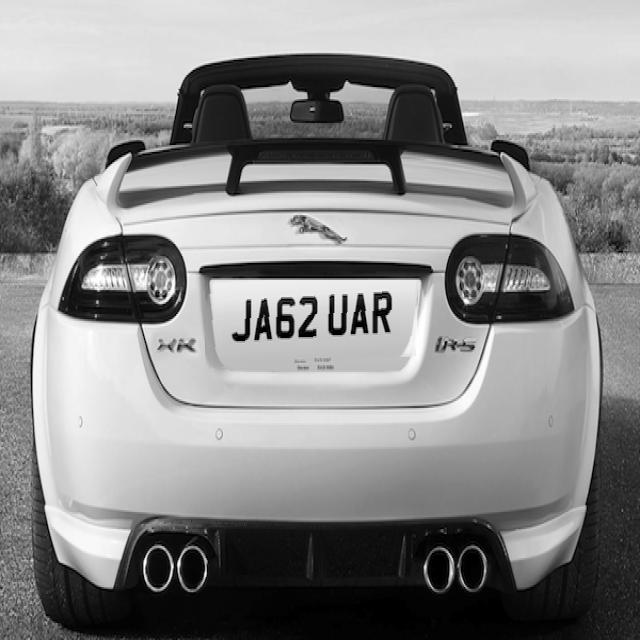licence: (205, 280, 419, 369)
